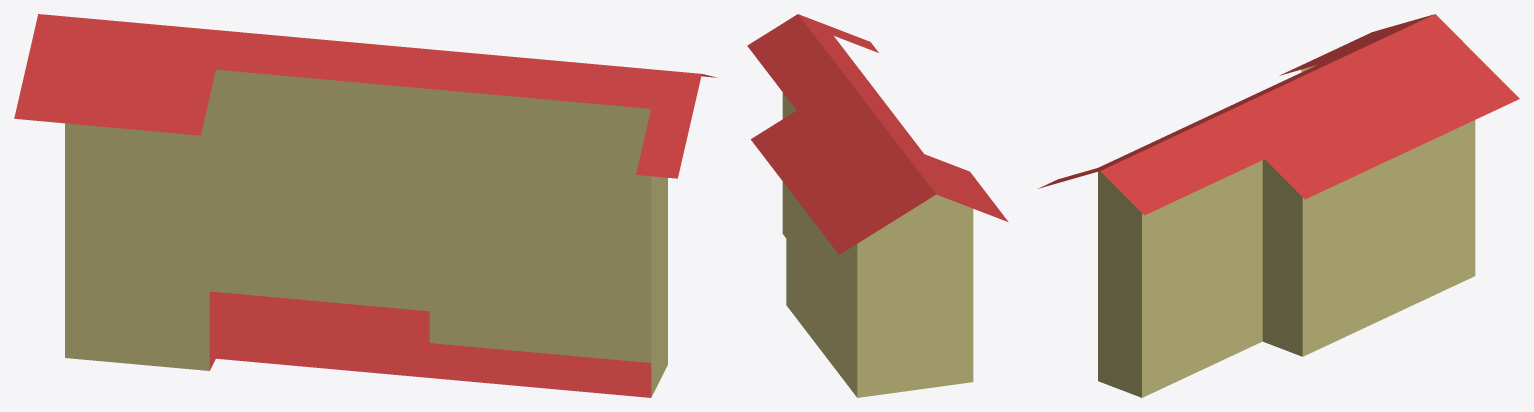
3 views of the same model, side by side, from view 1: azimuth 30°, elevation 25°; view 2: azimuth 150°, elevation 25°; view 3: azimuth 270°, elevation 25° (orthographic). The views are drawn at different scales.
Bounding box in the file's own units: 14.86 × 15.32 × 8.01.
